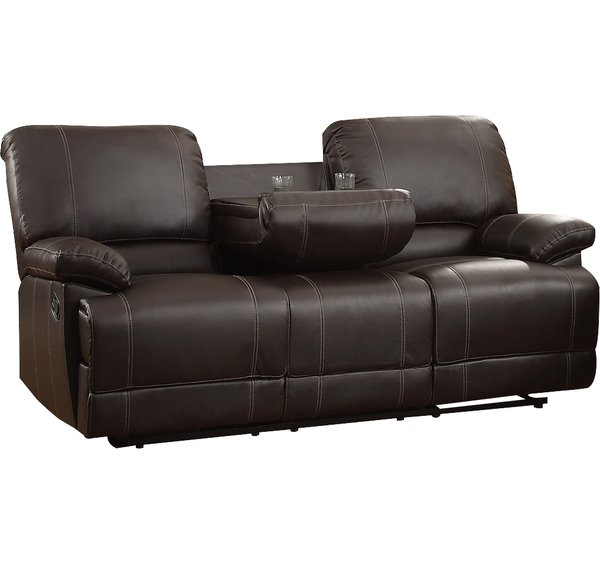chairs: (8, 108, 600, 460)
